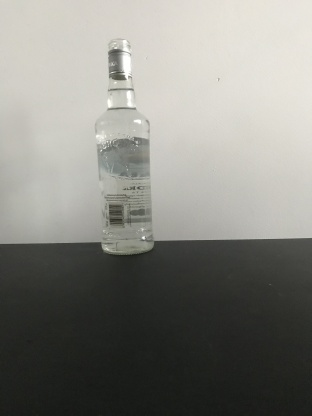nakretka: (106, 38, 133, 80)
